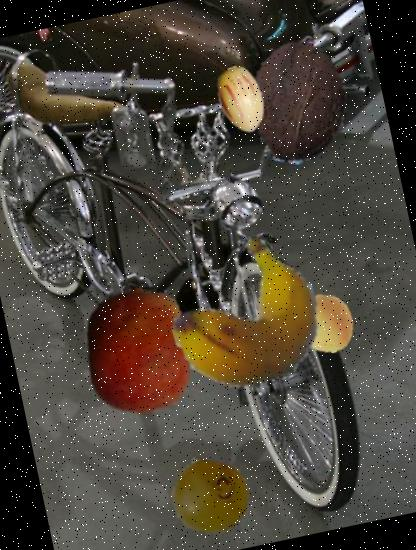Banana: (156, 228, 330, 402)
Cocos: (228, 30, 374, 176)
Grape: (164, 452, 256, 544)
Peach: (61, 276, 212, 426), (291, 288, 362, 359)
Pepino: (200, 60, 282, 142)
